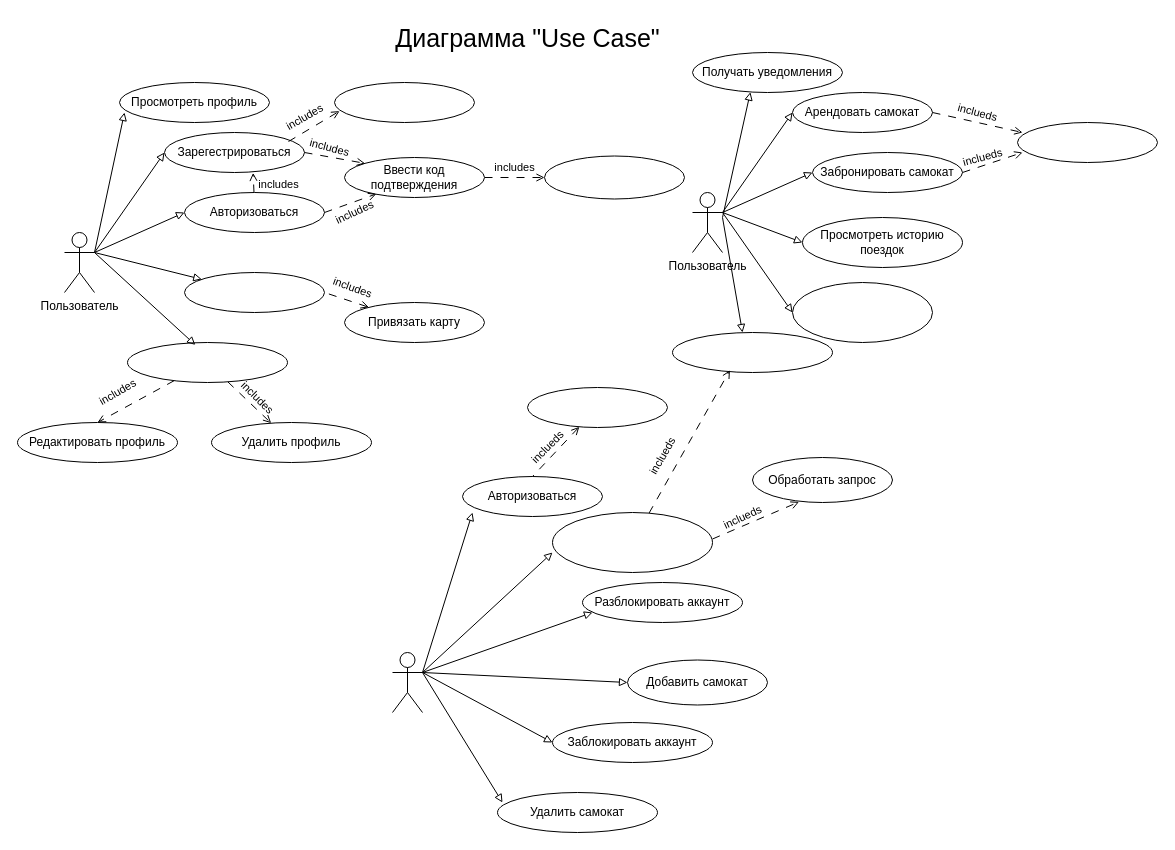
The diagram is 1175 pixels wide and 850 high, and some of its shapes have lost their labels. Here are the shapes that lost their labels. From the top down, the box of each, then its label:
(334, 82, 474, 122): Ввести личные данные
(1016, 122, 1158, 162): Найти самокат
(544, 155, 684, 199): Ввести номер телефона
(184, 272, 324, 312): Купить подписку
(792, 282, 932, 342): Просмотреть информацию о самокате
(126, 342, 288, 382): Управлять профилем
(672, 332, 832, 372): Обратиться в тех-поддержку
(526, 386, 668, 428): Проверка логина и пароля
(552, 512, 712, 572): Ответить на сообщение в тех-поддержку
(392, 652, 422, 712): Администратор
